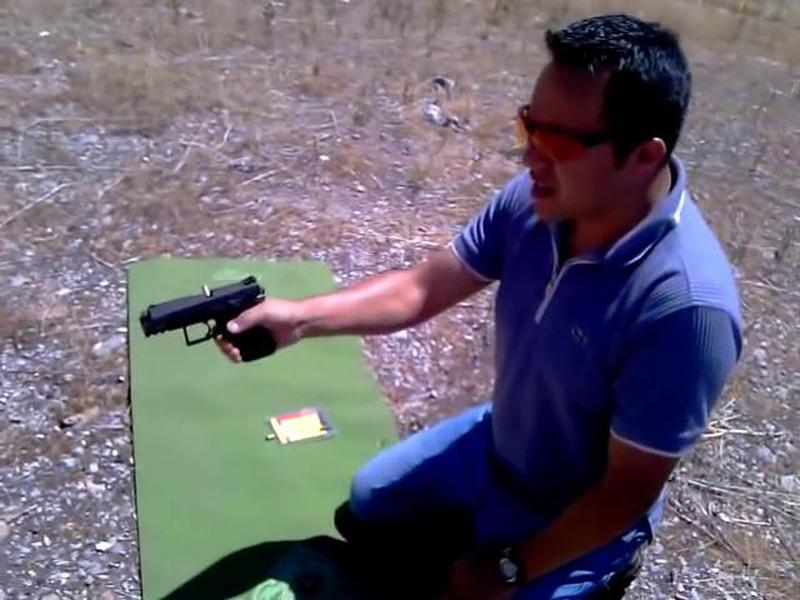Pistola: (123, 260, 272, 402)
